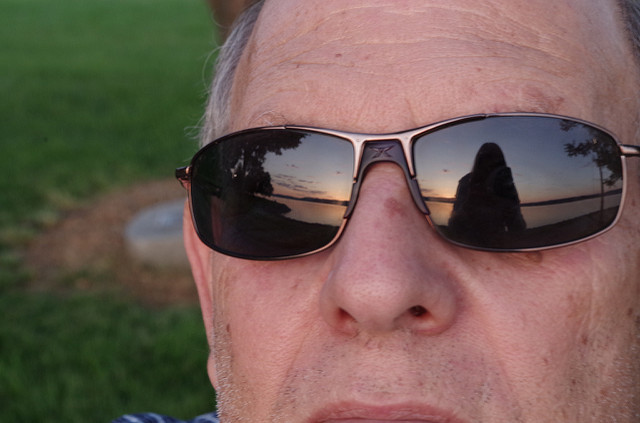sunglasses: (193, 129, 612, 253), (186, 129, 612, 236), (186, 151, 612, 236)
